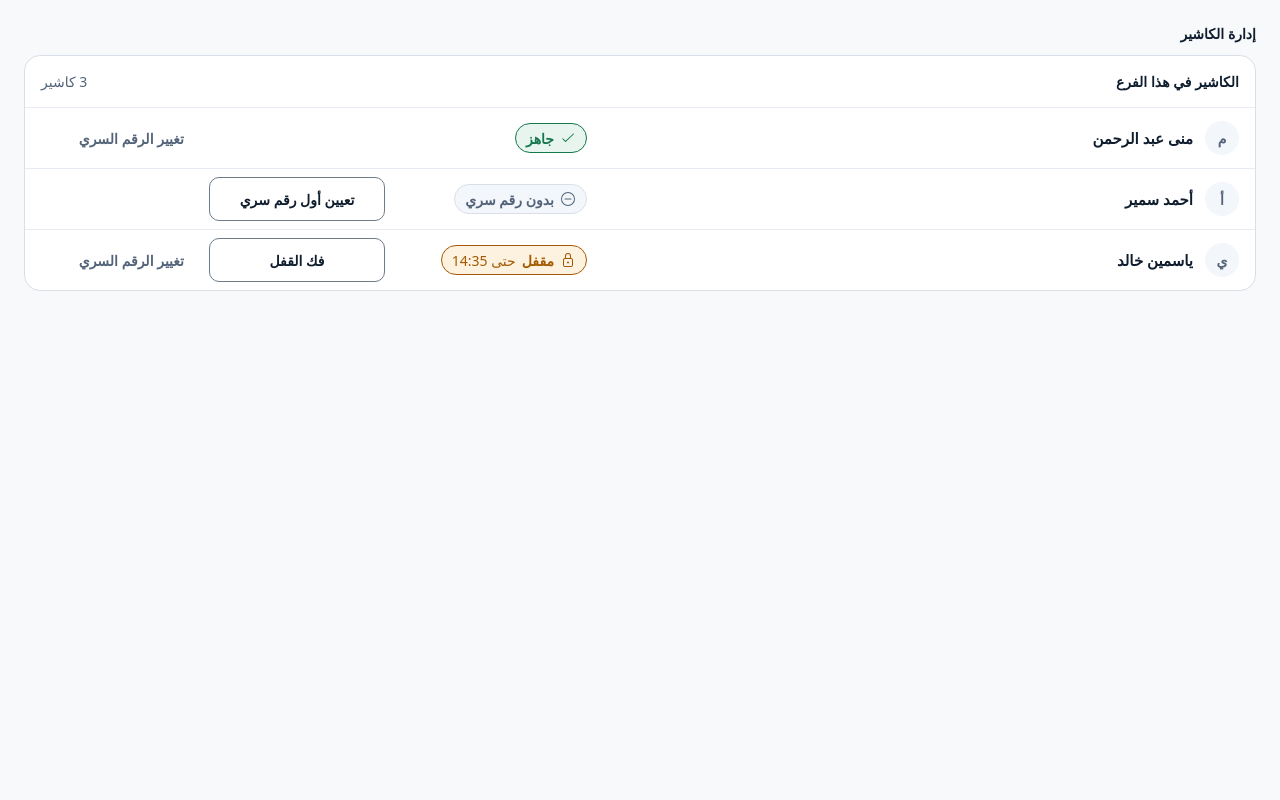
Scenario: RT-424 CashiersScreen — the PIN dialog (M5) › names the cashier in the title and keeps «حفظ» disabled until both fields hold 4–6 digits
Click the button "تعيين أول رقم سري" at coordinates (297, 199), box [209,177,385,221]
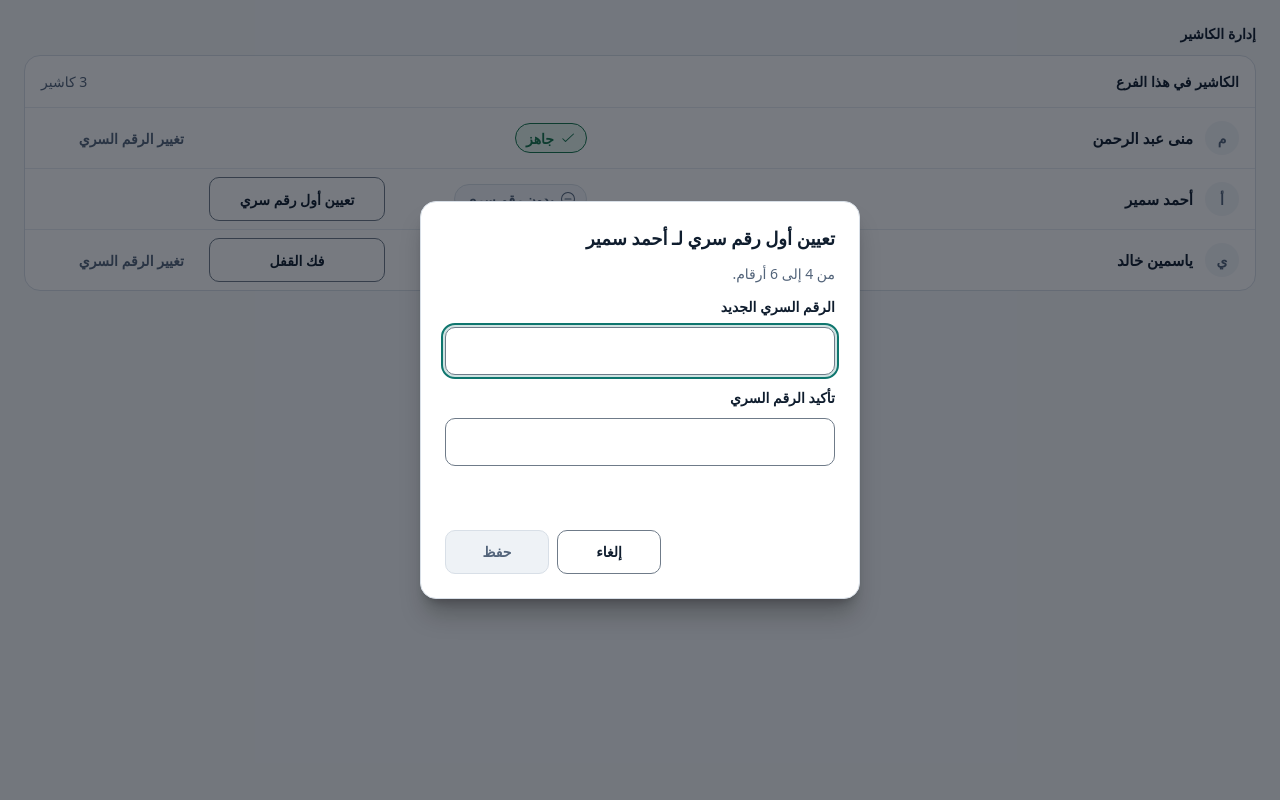
Now the button "حفظ" is disabled, box [445,530,549,574]
Type "1234" into the password field labelled "الرقم السري الجديد" at coordinates (640, 351), box [445,327,835,375]
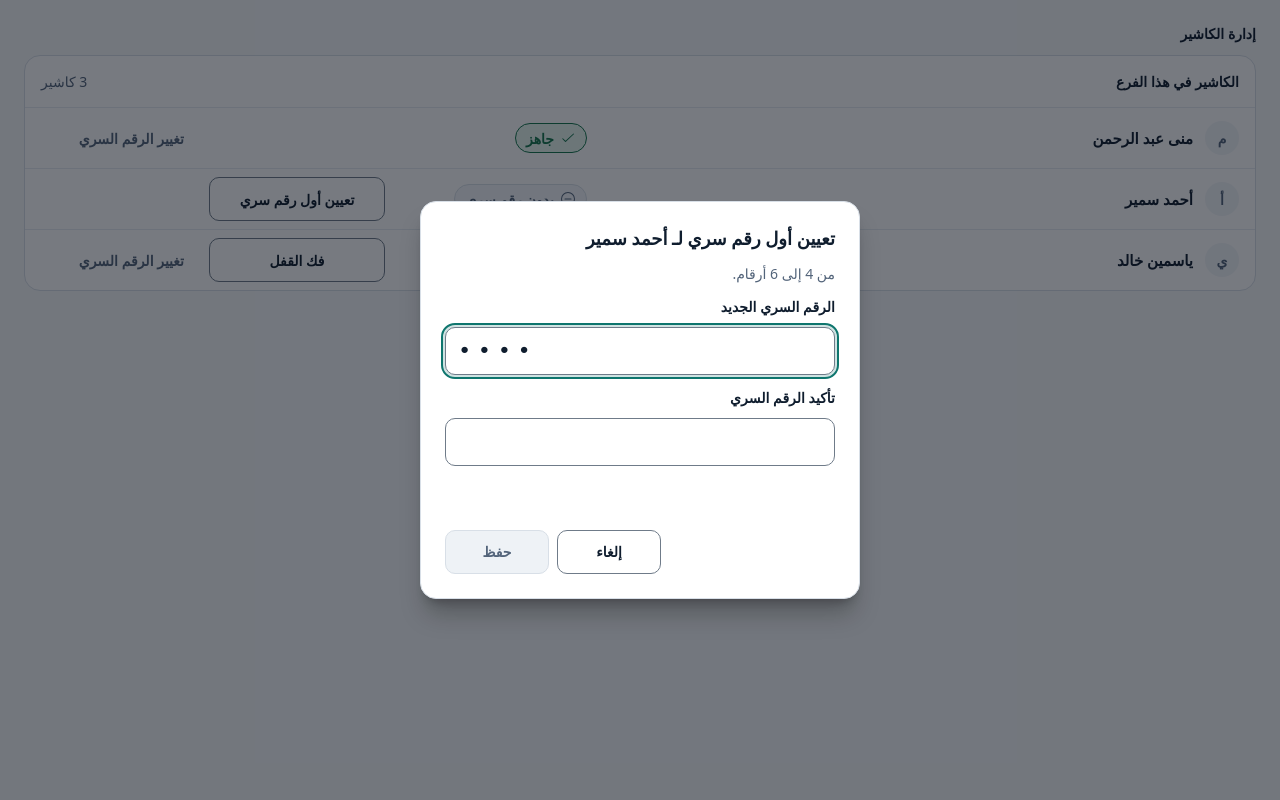
Type "123" into the password field labelled "تأكيد الرقم السري" at coordinates (640, 442), box [445,418,835,466]
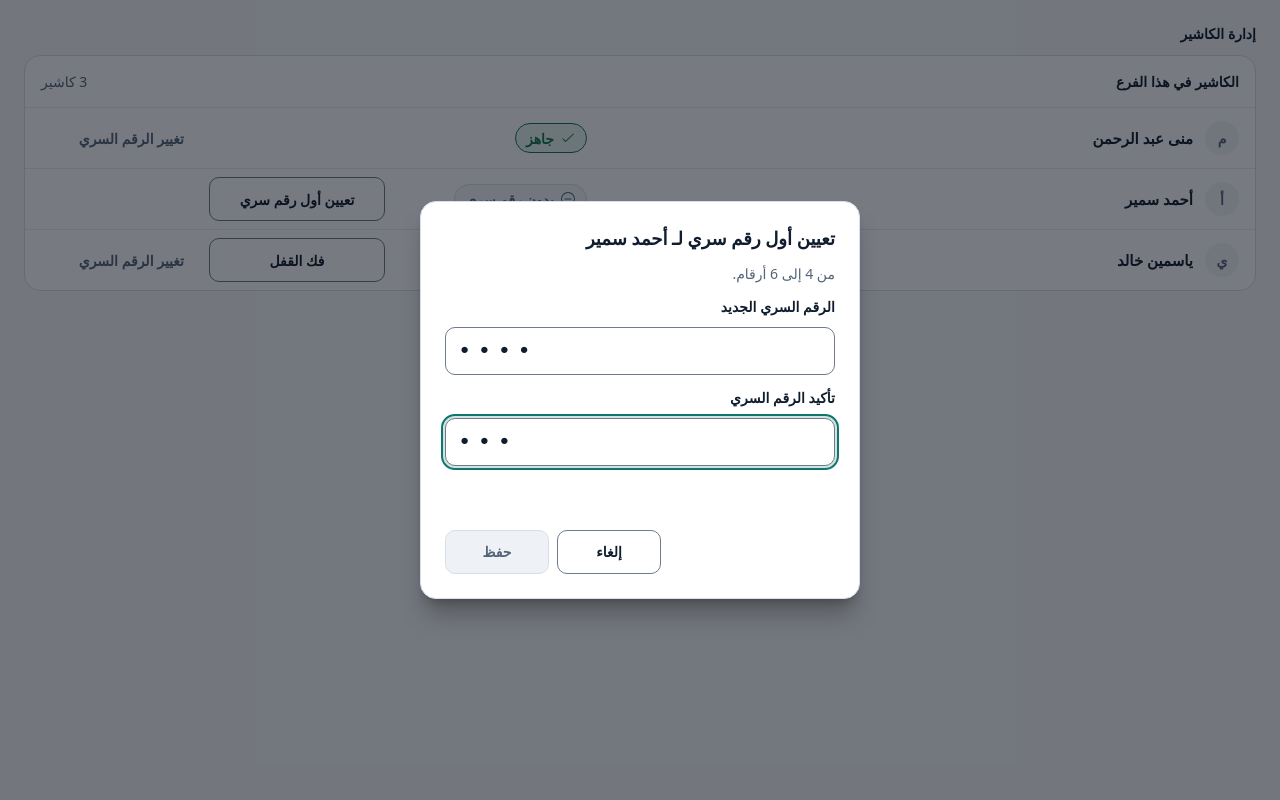
Now the button "حفظ" is disabled, box [445,530,549,574]
Type "4" into the password field labelled "تأكيد الرقم السري" at coordinates (640, 442), box [445,418,835,466]
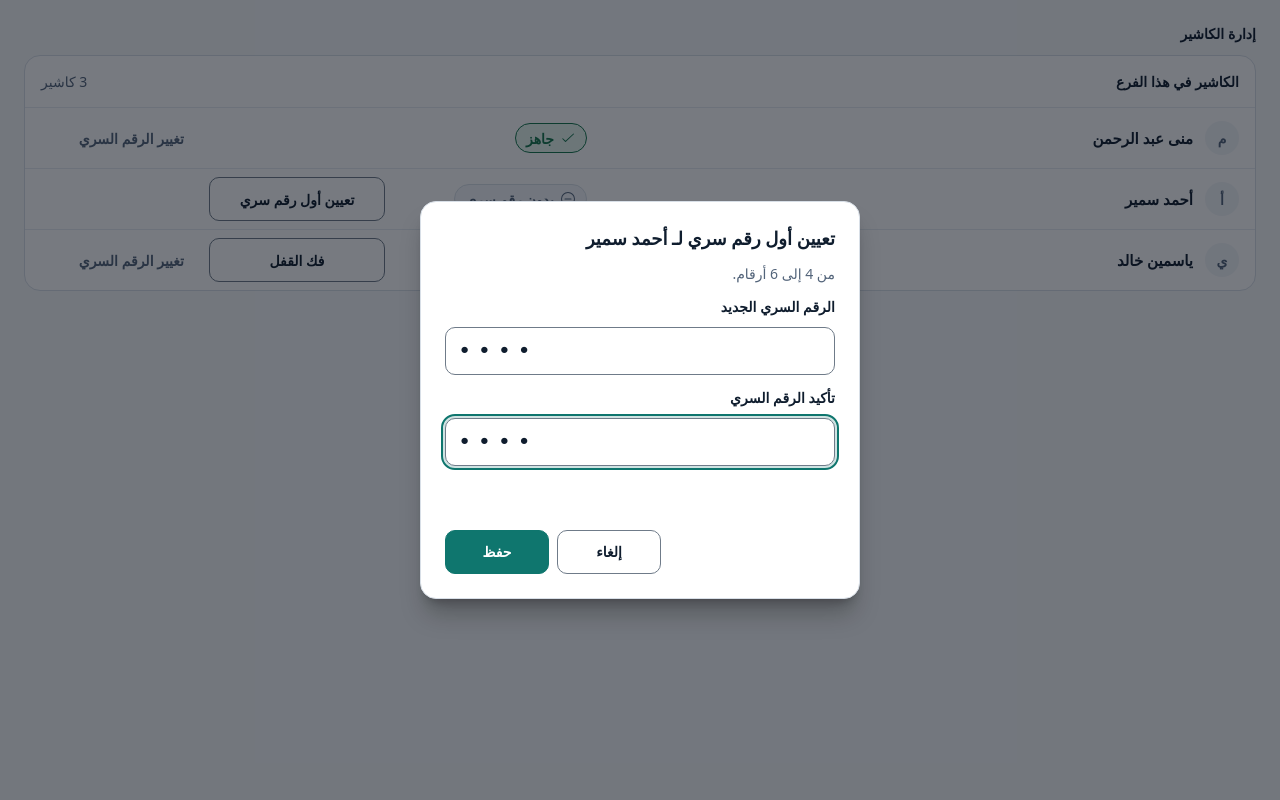
Now the button "حفظ" is enabled, box [445,530,549,574]
